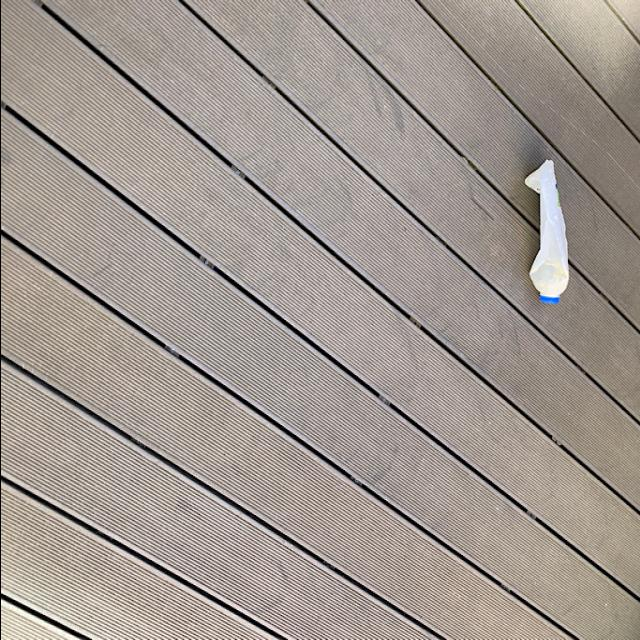litter: (525, 152, 569, 306)
